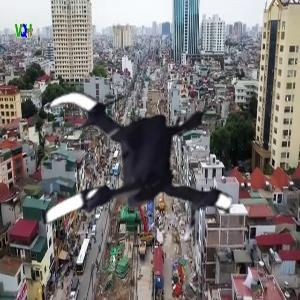drone: (27, 50, 262, 285)
